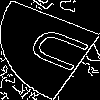U: (25, 24, 100, 78)
